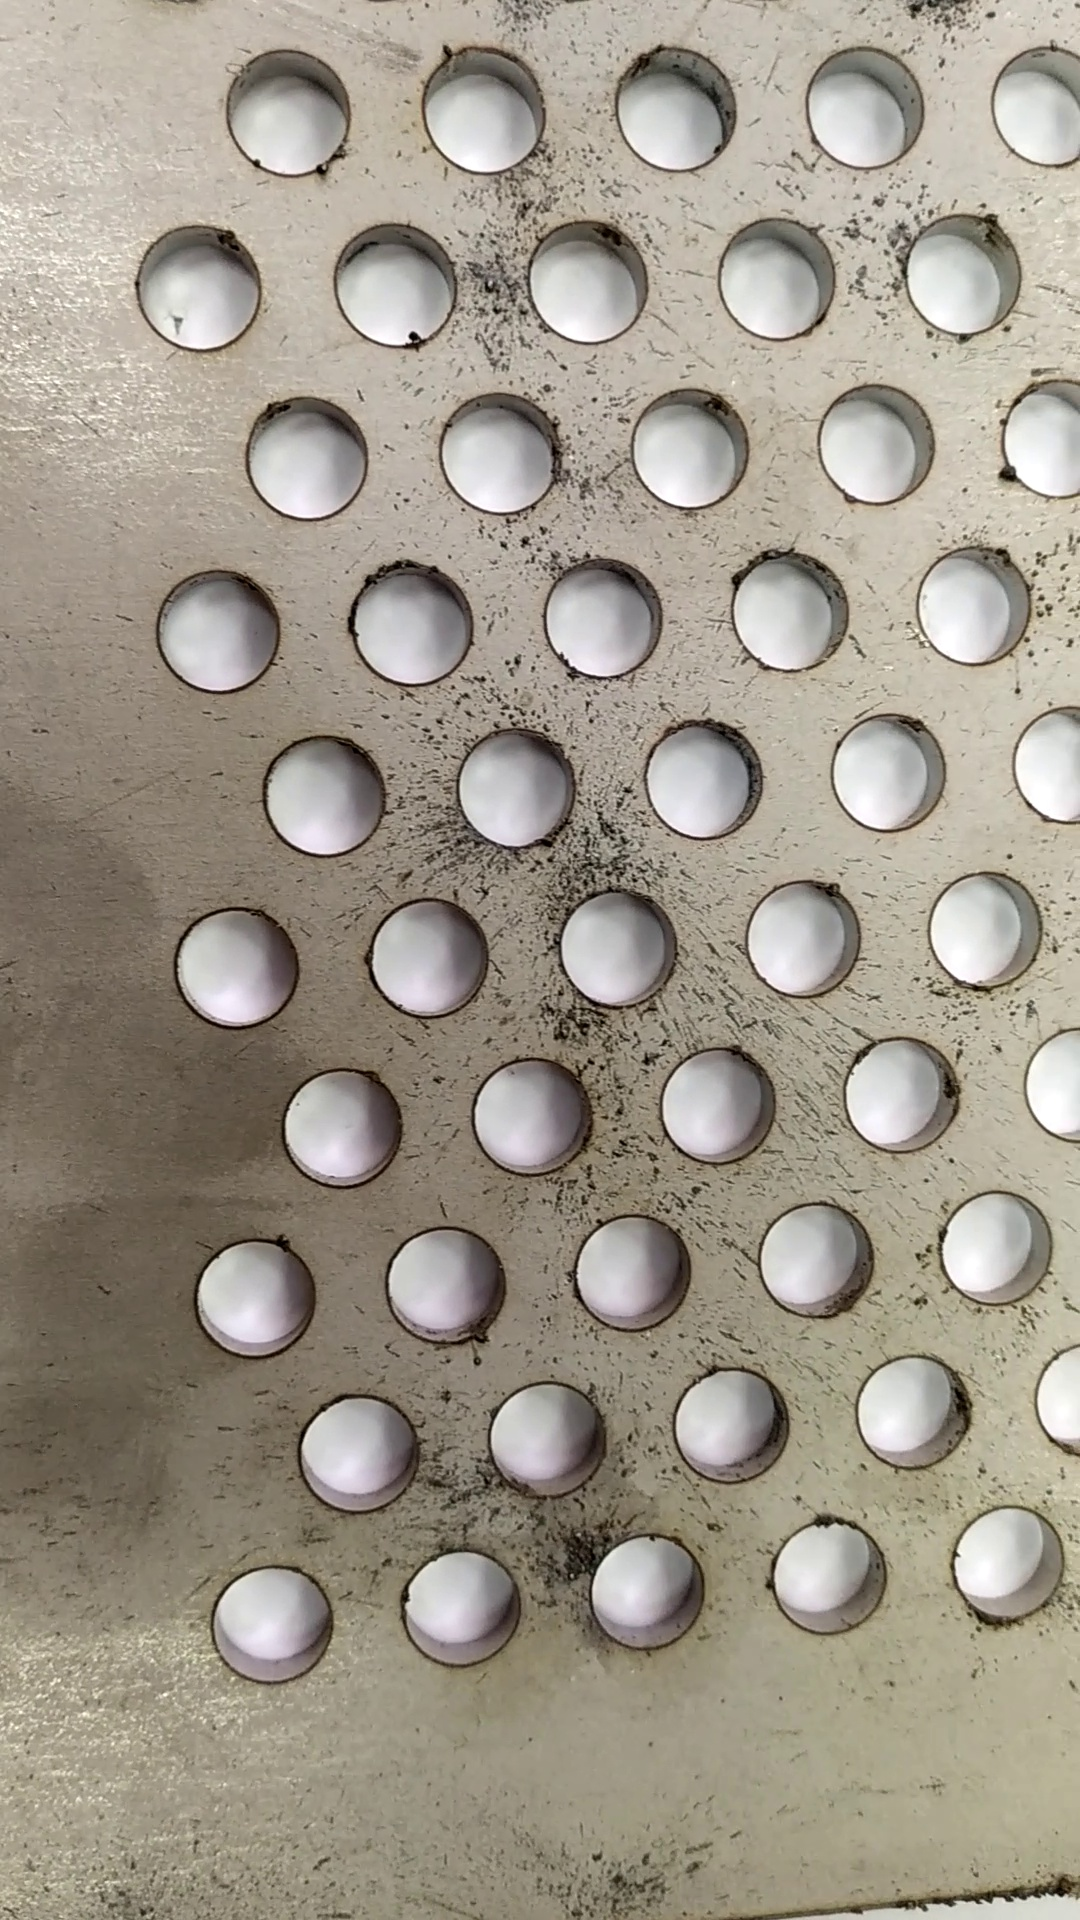Hole: (212, 36, 369, 183), (332, 550, 487, 698), (318, 211, 469, 360), (389, 1532, 543, 1677), (887, 199, 1034, 349), (255, 728, 411, 868), (422, 385, 579, 524), (407, 38, 559, 181), (371, 1213, 518, 1358), (191, 1552, 343, 1693), (232, 392, 385, 531), (124, 218, 281, 353), (167, 897, 322, 1033), (745, 1195, 894, 1335), (508, 215, 663, 348), (905, 531, 1051, 671), (145, 560, 294, 698), (653, 1358, 806, 1491), (798, 36, 942, 177), (272, 1056, 419, 1193), (575, 1524, 723, 1662), (713, 538, 855, 680), (622, 715, 773, 848), (531, 549, 679, 683), (604, 38, 746, 177), (620, 377, 760, 517), (567, 1205, 712, 1340), (757, 1507, 902, 1642), (640, 1042, 789, 1171), (467, 1048, 607, 1185), (355, 891, 498, 1025), (938, 1495, 1075, 1634), (822, 703, 957, 843), (447, 720, 591, 852), (285, 1387, 429, 1519), (709, 214, 847, 349), (918, 860, 1059, 992), (187, 1238, 332, 1366), (543, 885, 694, 1007), (926, 1182, 1067, 1311), (483, 1370, 616, 1505), (738, 872, 872, 1005), (840, 1026, 975, 1158), (840, 1346, 977, 1470), (808, 381, 943, 506)
